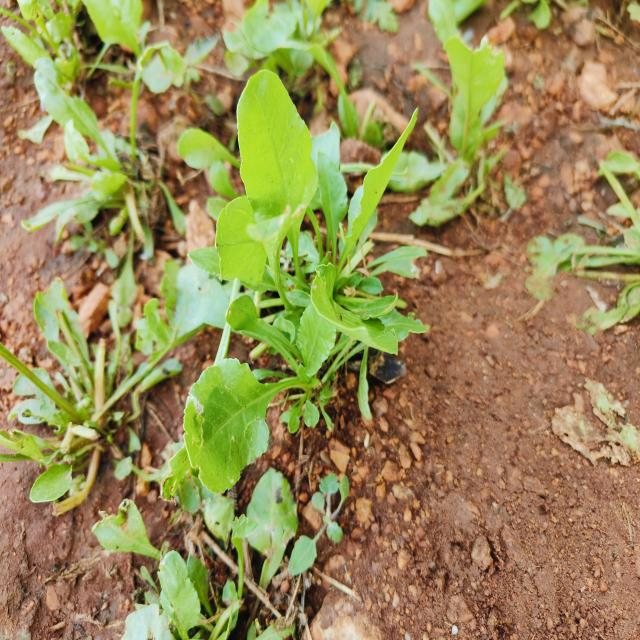leaves: (240, 63, 328, 366), (139, 359, 334, 486), (336, 98, 426, 309), (219, 288, 316, 382), (207, 202, 287, 312), (289, 284, 341, 384)
